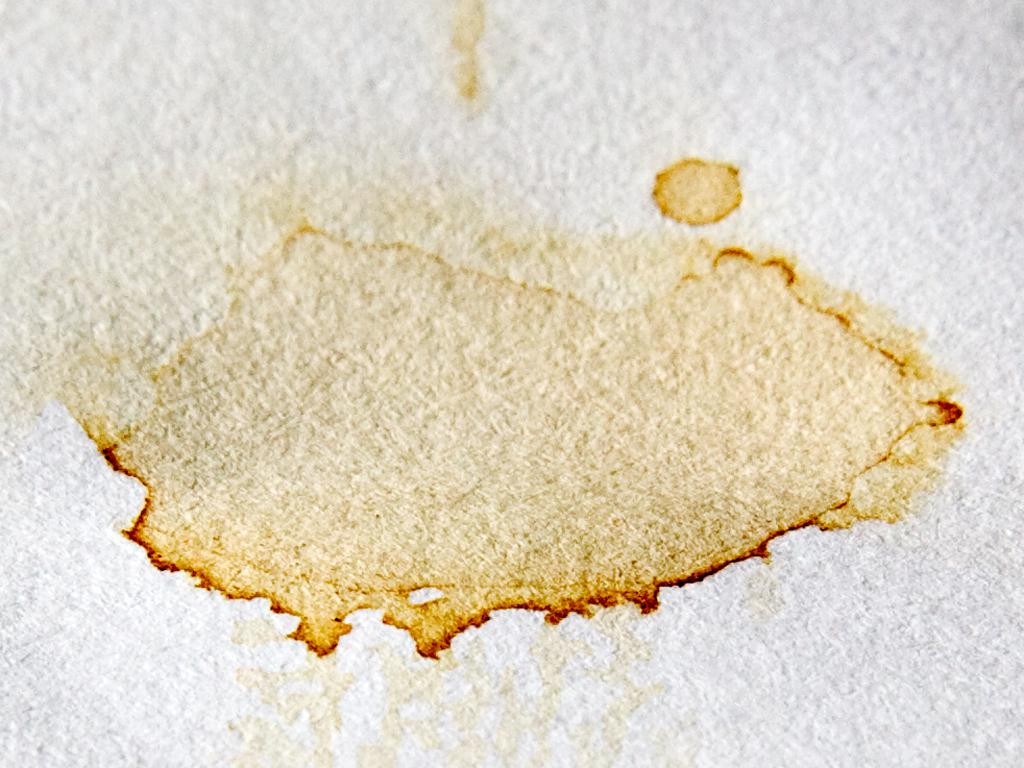gun: (99, 268, 966, 645), (658, 150, 743, 230), (440, 0, 494, 102)
